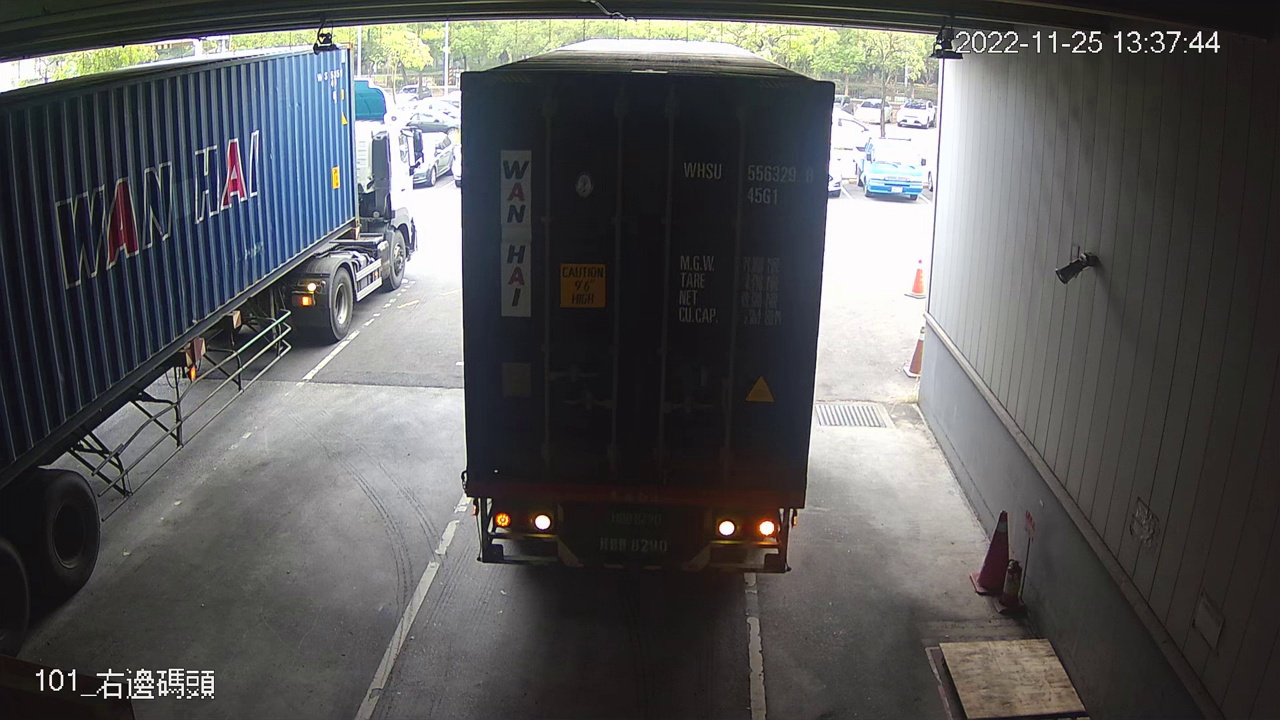container: (677, 151, 821, 211)
